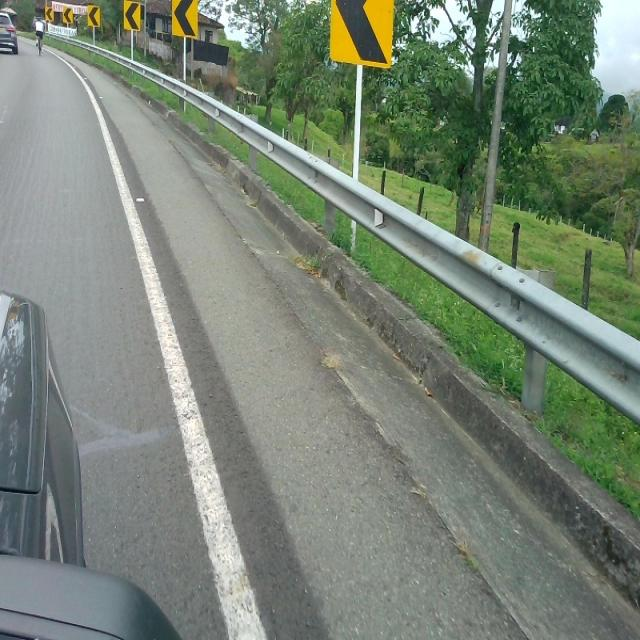DITCH: (4, 34, 638, 638)
